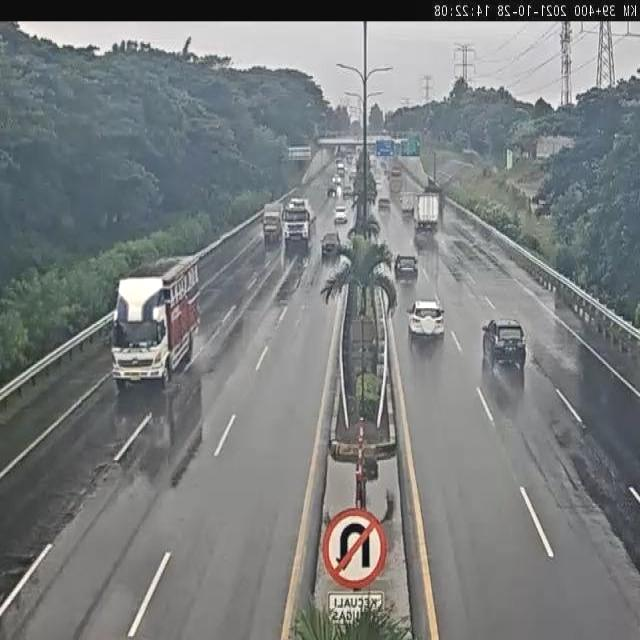Bus: (390, 164, 403, 182)
Car: (481, 316, 526, 366), (406, 299, 446, 343), (394, 254, 420, 283), (320, 232, 342, 256), (333, 205, 348, 225), (378, 198, 392, 211), (326, 182, 338, 196), (331, 173, 342, 187), (342, 185, 352, 198), (373, 180, 382, 193)
Truck: (110, 252, 200, 386), (282, 197, 312, 248), (412, 193, 438, 228), (262, 202, 284, 240), (400, 190, 416, 213)
